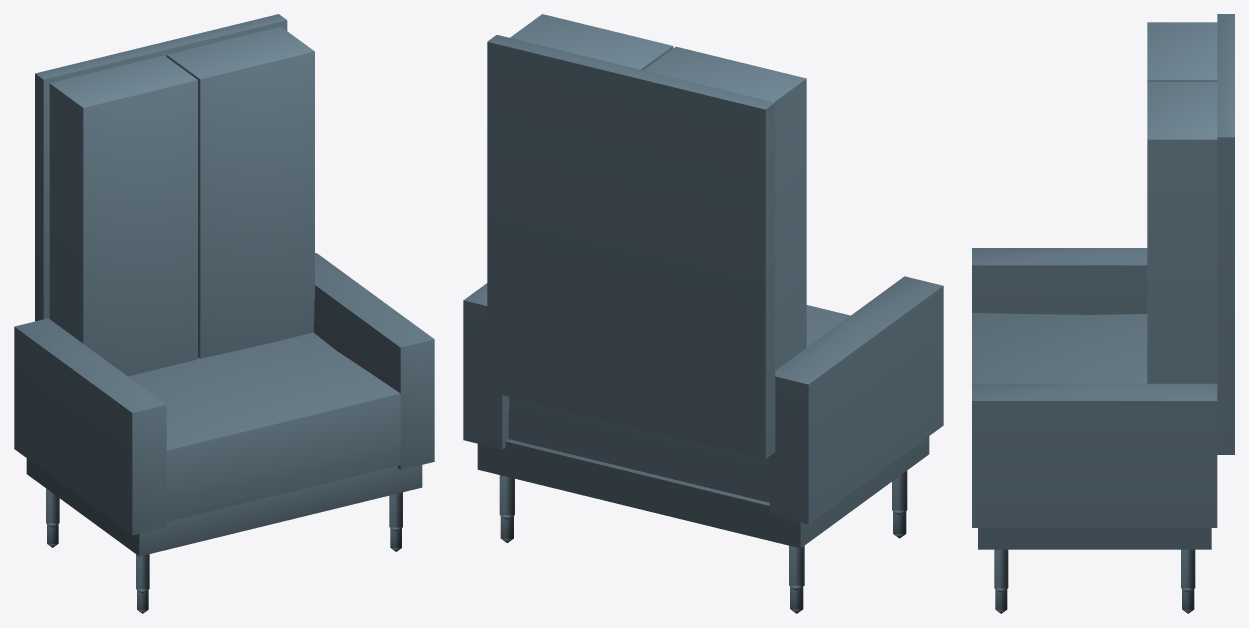
The model's file is sofa_lod2.glb.
The picture shows the model from 3 angles, left to right: view 1: azimuth 30°, elevation 25°; view 2: azimuth 150°, elevation 25°; view 3: azimuth 270°, elevation 25°; orthographic projection. The views are drawn at different scales.
Visible parts, largest first — view 1: BoutiqueSofa_LOD2; view 2: BoutiqueSofa_LOD2; view 3: BoutiqueSofa_LOD2.
Part boxes in pixels (box(x1,y1,x2,y2)): BoutiqueSofa_LOD2: box(14, 14, 434, 613); BoutiqueSofa_LOD2: box(463, 14, 943, 613); BoutiqueSofa_LOD2: box(972, 14, 1234, 613).
Bounding box in the file's own units: 1.28 × 1.78 × 0.9.
